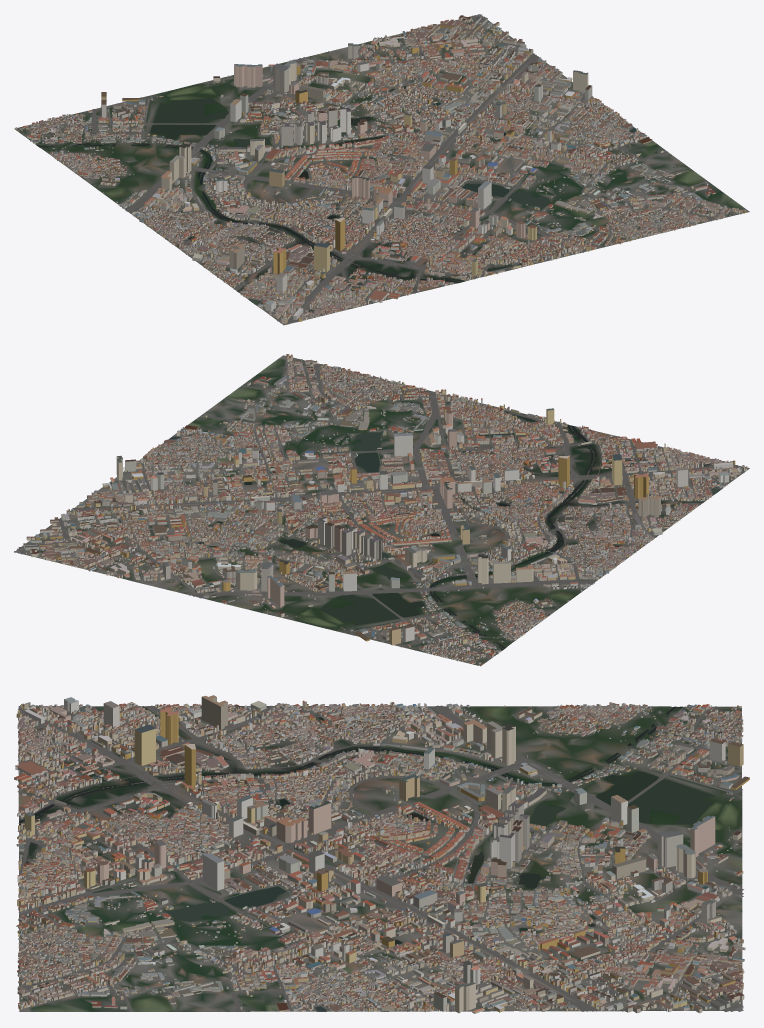
The picture shows the model from 3 angles, top to bottom: view 1: azimuth 30°, elevation 25°; view 2: azimuth 150°, elevation 25°; view 3: azimuth 270°, elevation 25°; orthographic projection. The views are drawn at different scales.
Parts seen in each view (by area): view 1: buildings, ground, roads, water; view 2: buildings, ground, roads, water; view 3: buildings, ground, roads, water.
Part boxes in pixels (x1=…): buildings: x1=15, y1=15, x2=745, y2=324; ground: x1=14, y1=15, x2=749, y2=325; roads: x1=23, y1=14, x2=747, y2=324; water: x1=36, y1=86, x2=673, y2=312; buildings: x1=23, y1=354, x2=748, y2=665; ground: x1=14, y1=355, x2=749, y2=666; roads: x1=14, y1=355, x2=745, y2=659; water: x1=169, y1=405, x2=720, y2=650; buildings: x1=14, y1=695, x2=749, y2=1013; ground: x1=18, y1=706, x2=742, y2=1011; roads: x1=17, y1=705, x2=743, y2=1011; water: x1=18, y1=706, x2=714, y2=1011.
Size of the model in its own units: 2833 by 174 by 2853.
